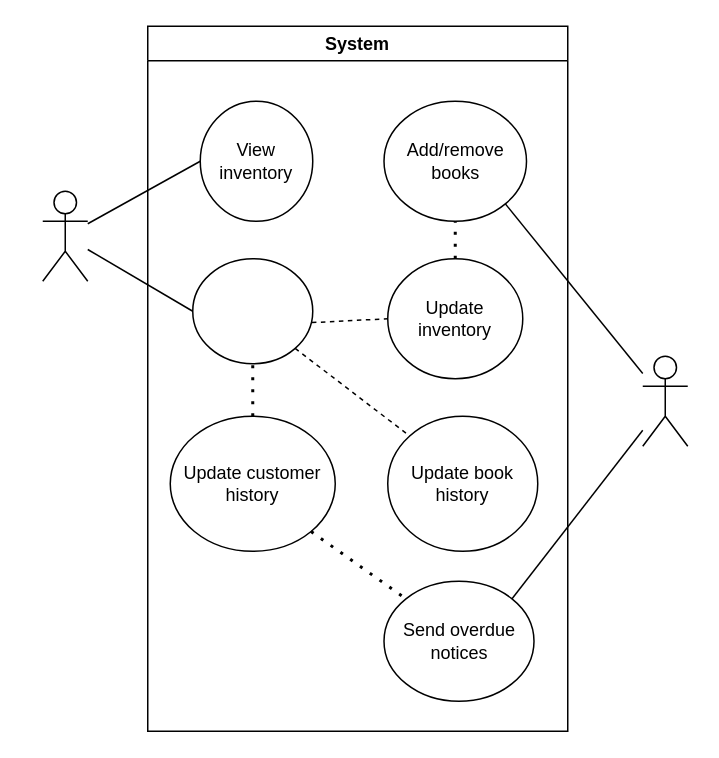
Image size: 719x758. Some labels were removed from this diagram. Each missing label, with the centre of its shape:
Check out book: the point at 252,310
Customer: the point at 64,235
Library staff: the point at 664,400
